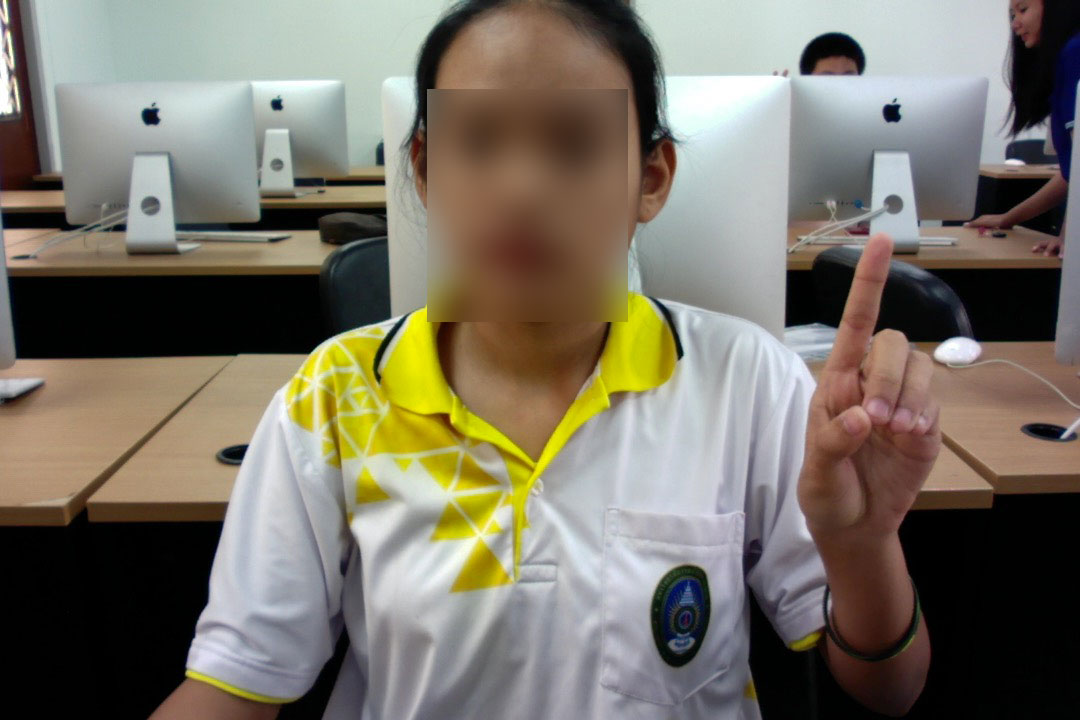dor: (794, 231, 962, 555)
